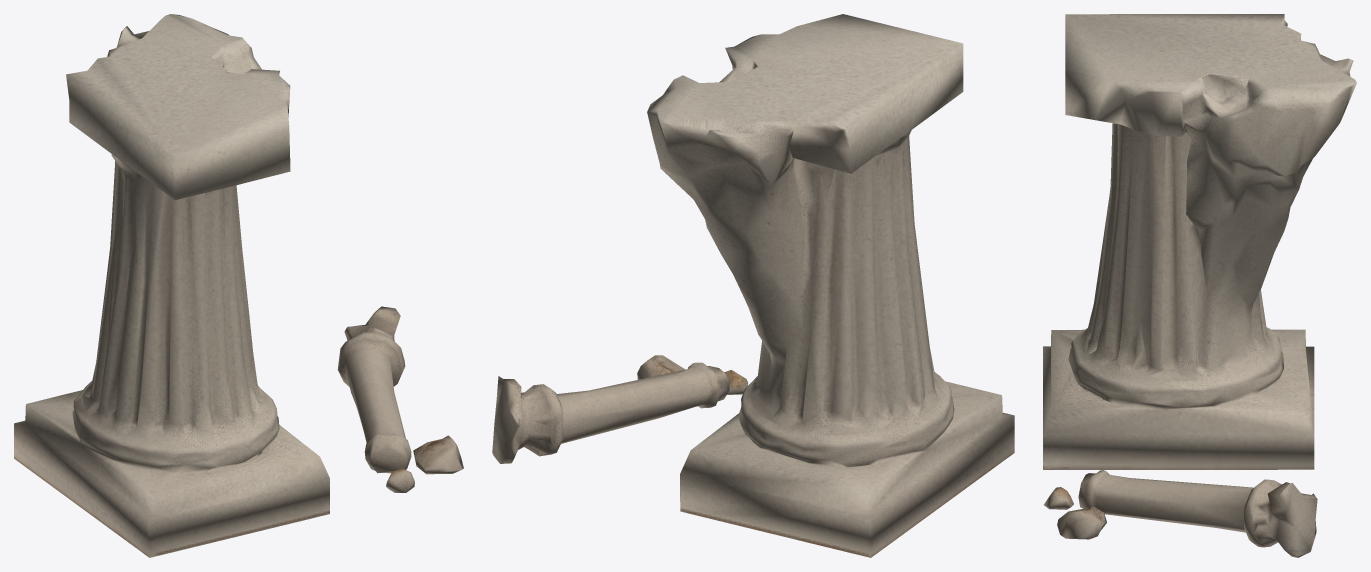
The model's file is prp_lm_column_broken.glb.
3 views of the same model, side by side, from view 1: azimuth 30°, elevation 25°; view 2: azimuth 150°, elevation 25°; view 3: azimuth 270°, elevation 25° (orthographic). The views are drawn at different scales.
Visible parts, largest first — view 1: prp_lm_column_broken; view 2: prp_lm_column_broken; view 3: prp_lm_column_broken.
Part boxes in pixels (<box>): prp_lm_column_broken: <box>14,14,463,557</box>; prp_lm_column_broken: <box>492,14,1014,557</box>; prp_lm_column_broken: <box>1043,14,1356,557</box>.
Size of the model in its own units: 7.99 by 8 by 5.89.
Materials: 1 (1 with a texture image).
